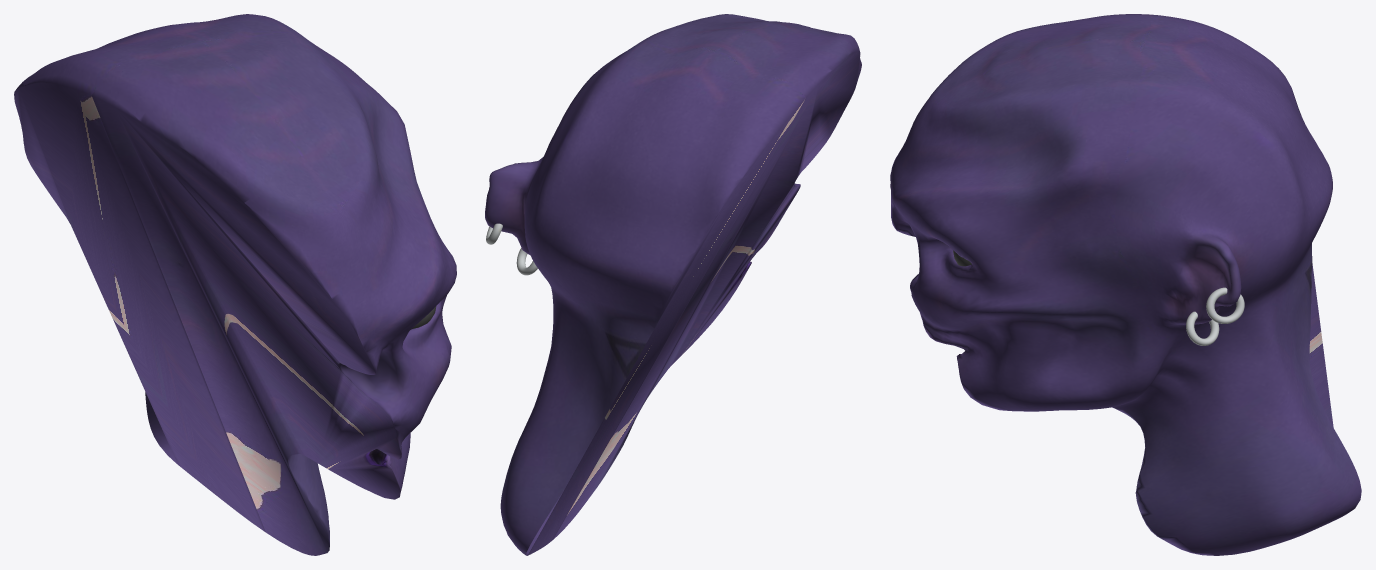
The model's file is alien1forward-compressed.glb.
3 views of the same model, side by side, from view 1: azimuth 30°, elevation 25°; view 2: azimuth 150°, elevation 25°; view 3: azimuth 270°, elevation 25° (orthographic). The views are drawn at different scales.
Parts seen in each view (by area): view 1: defaultMaterial.001; view 2: defaultMaterial.001; view 3: defaultMaterial.001.
Boxes of the visible parts, left/top/right/bottom form: defaultMaterial.001: left=14, top=14, right=456, bottom=555; defaultMaterial.001: left=485, top=14, right=861, bottom=555; defaultMaterial.001: left=890, top=14, right=1361, bottom=555.
Bounding box in the file's own units: 0.5902 × 0.9528 × 0.8816.
1 material, 1 textured.
